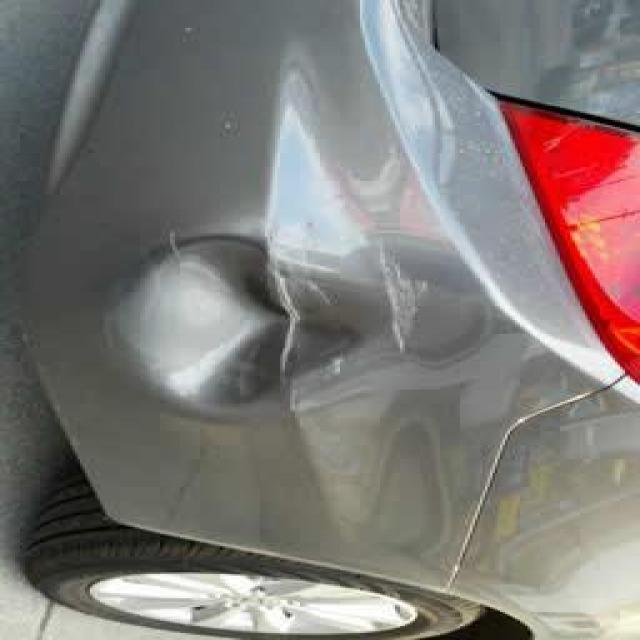dent: (90, 221, 422, 449)
